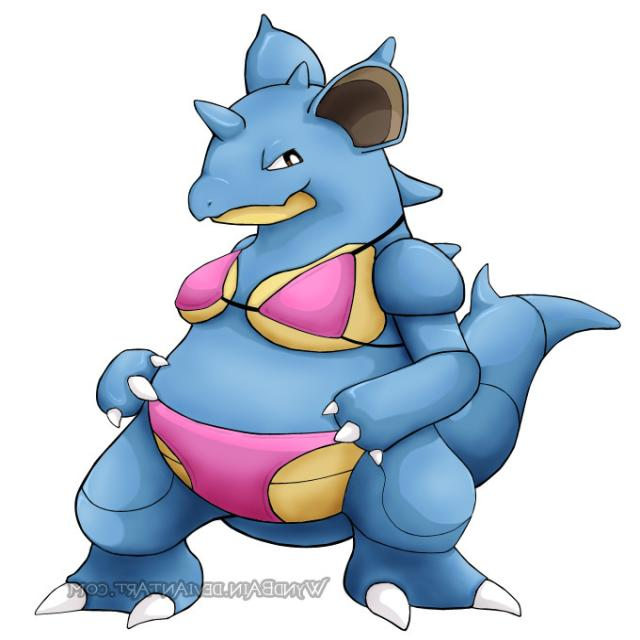Nidoqueen: (54, 16, 522, 619)
